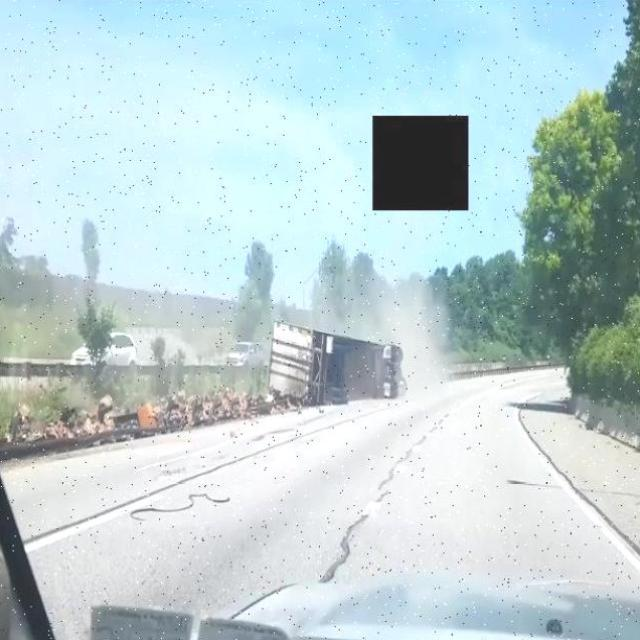accident: (267, 315, 409, 411)
